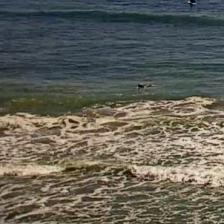surfer: (138, 83, 154, 89), (188, 0, 196, 5)
